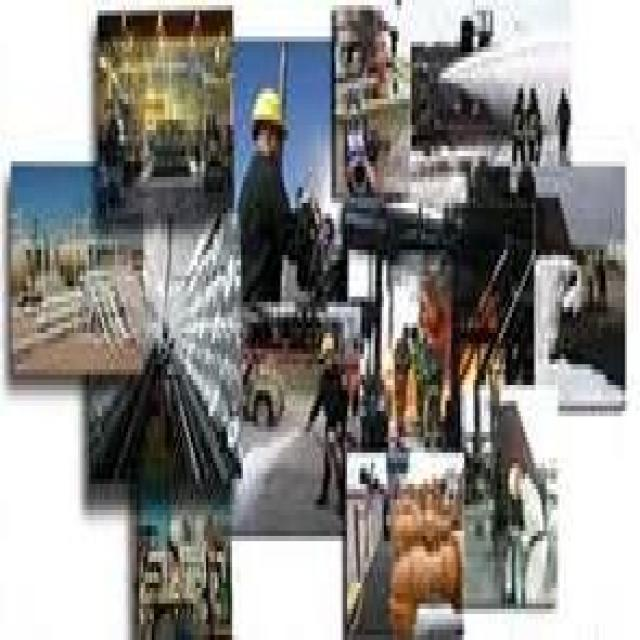Safety-Helmet: (247, 78, 293, 146)
